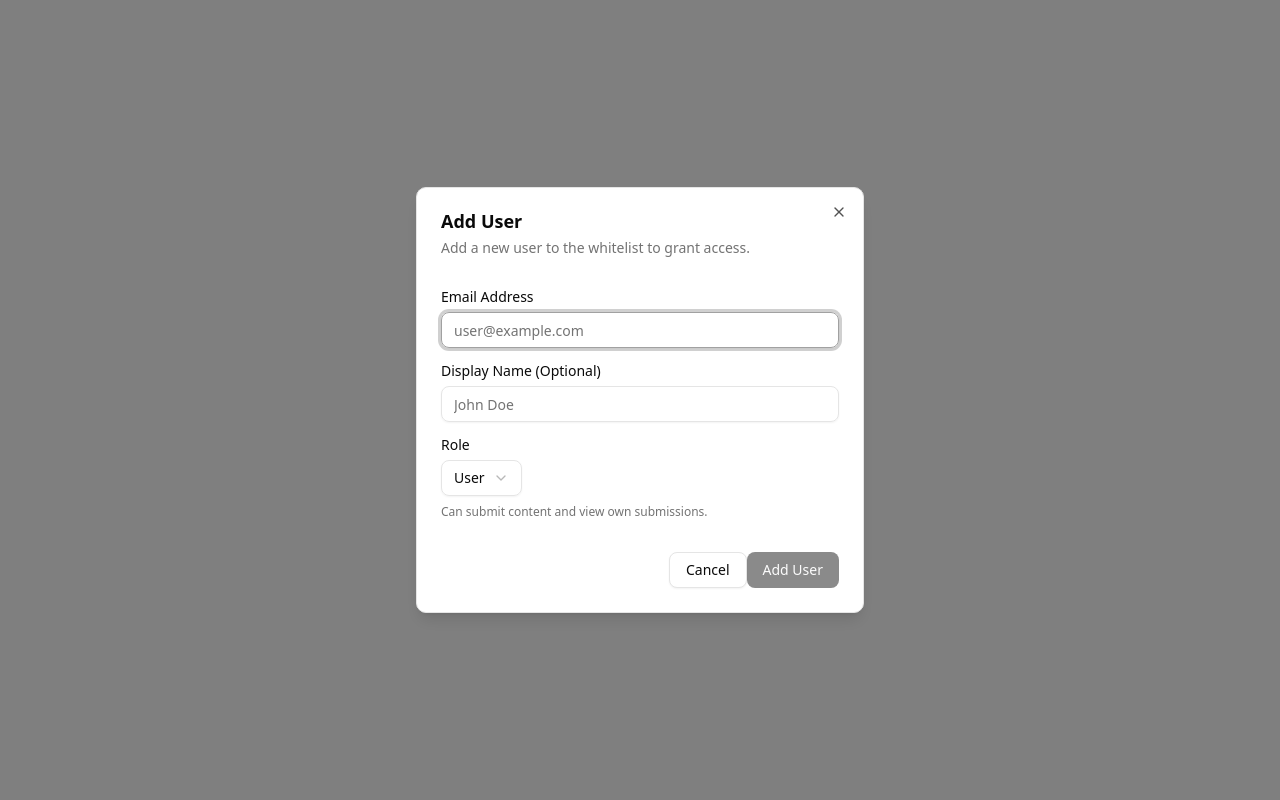
Scenario: AddUserDialog › should show validation error for invalid email
The image size is (1280, 800).
Type "invalid-email" into the field labelled "Email Address" at {"x": 640, "y": 330}, box 441,312 -> 839,348
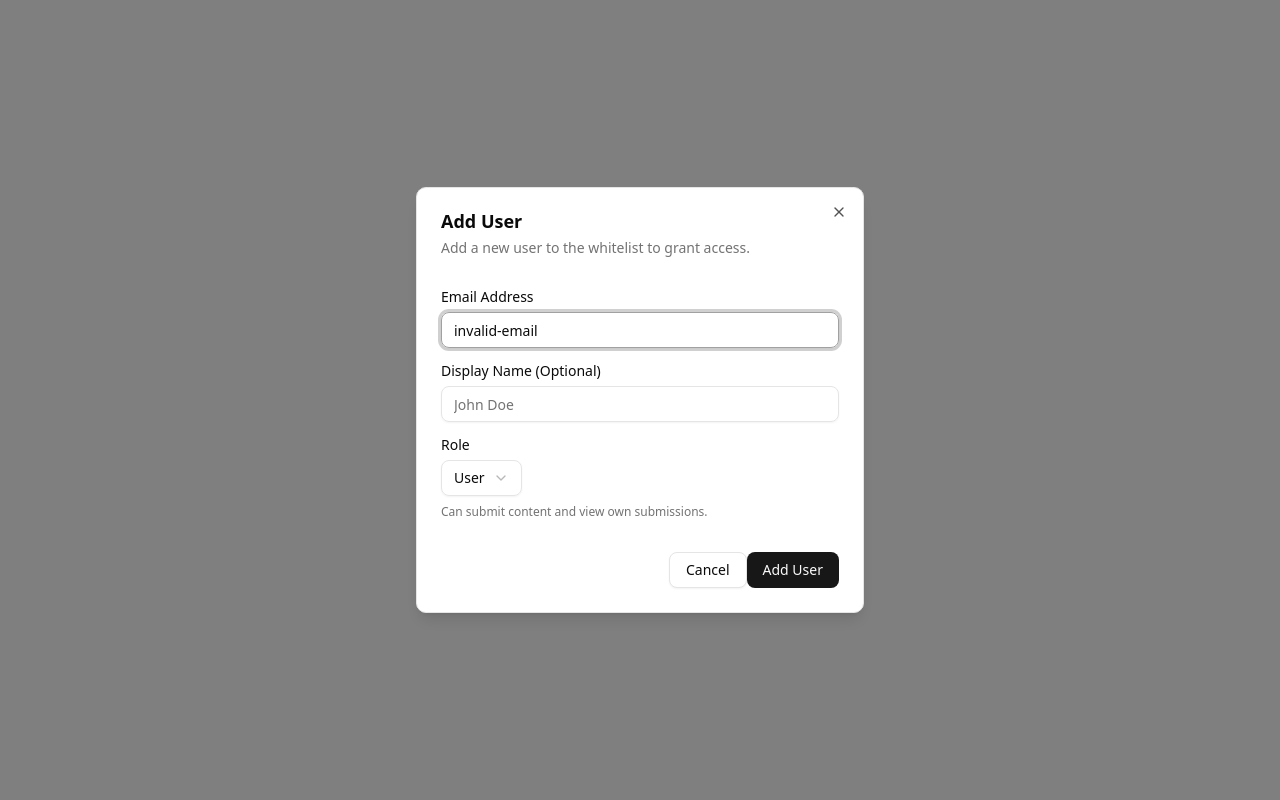
Click the button "Add User" at {"x": 793, "y": 570}, box 747,552 -> 839,588
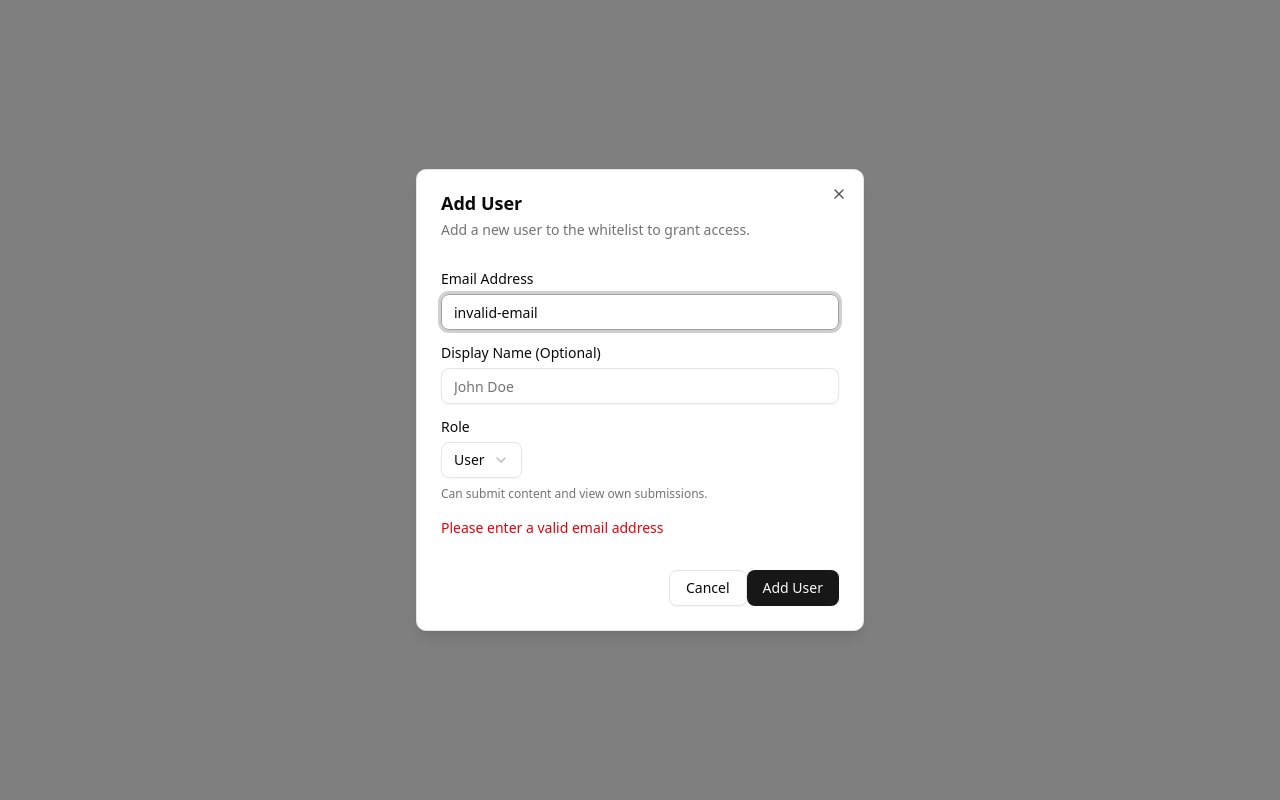
Now the text "Please enter a valid email address" is shown, box 441,518 -> 664,537
